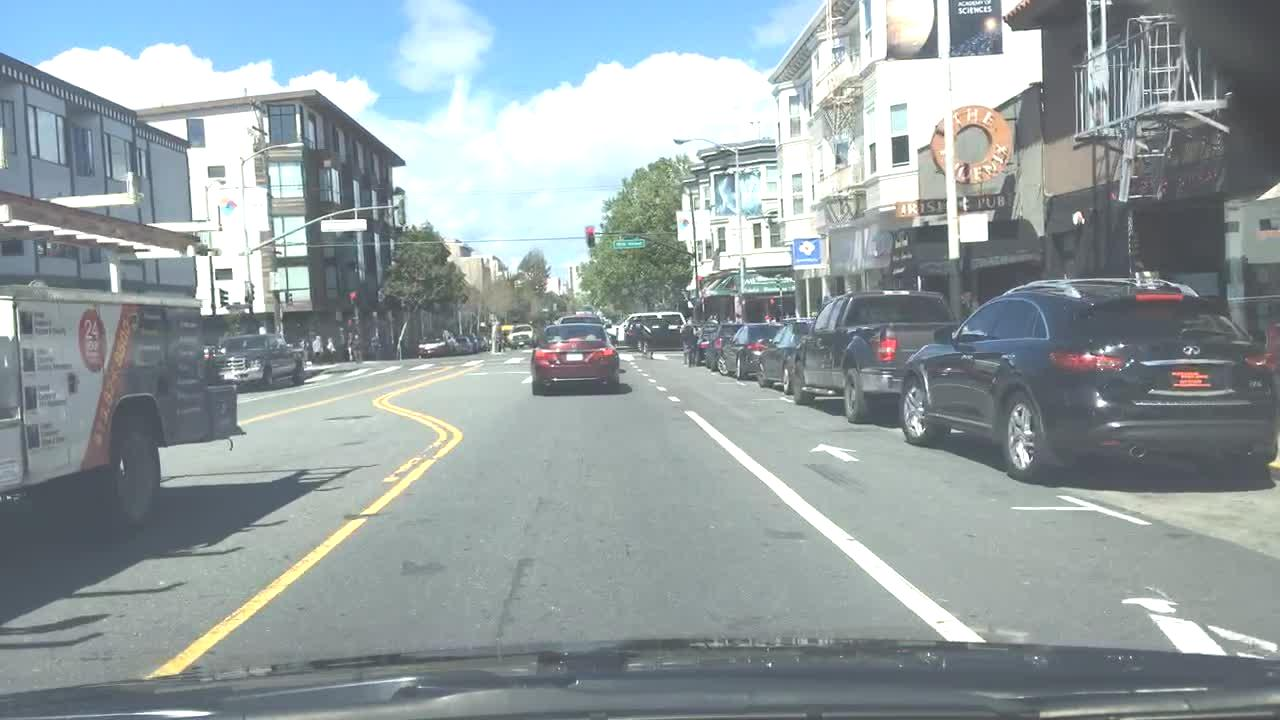Infiniti: (1173, 338, 1206, 358)
